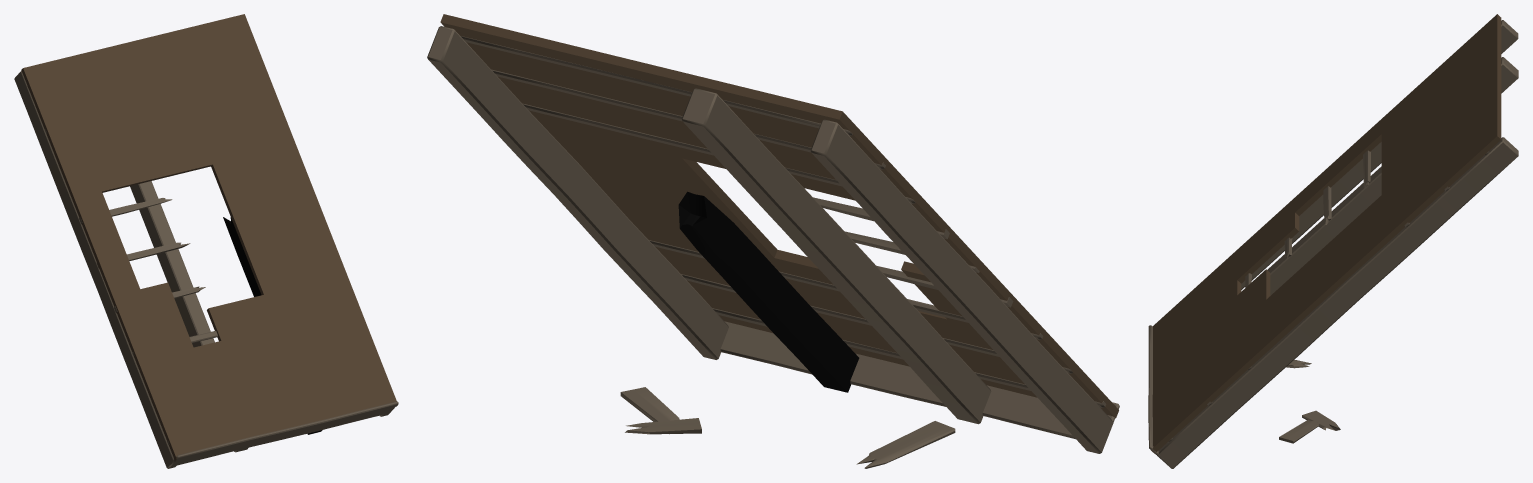
File: dach_kaputt.glb
3 renders of one model, left to right at view 1: azimuth 30°, elevation 25°; view 2: azimuth 150°, elevation 25°; view 3: azimuth 270°, elevation 25°, orthographic. The views are drawn at different scales.
Parts seen in each view (by area): view 1: dach_kaputt; view 2: dach_kaputt; view 3: dach_kaputt.
Boxes of the visible parts, x1,y1,x2,y2 form: dach_kaputt: (14,14,398,468); dach_kaputt: (427,14,1119,468); dach_kaputt: (1148,14,1518,468).
Size of the model in its own units: 2 by 2.55 by 2.56.
